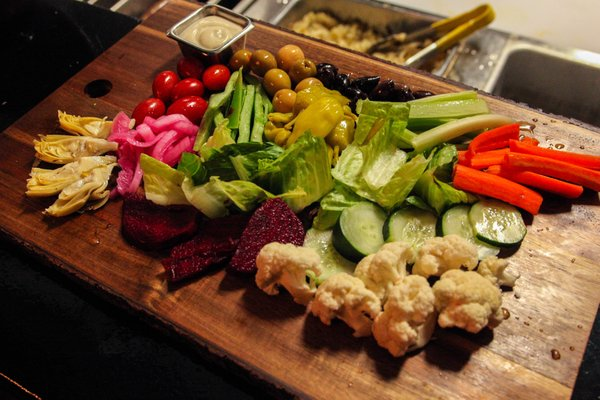sushi: (166, 1, 256, 65)
